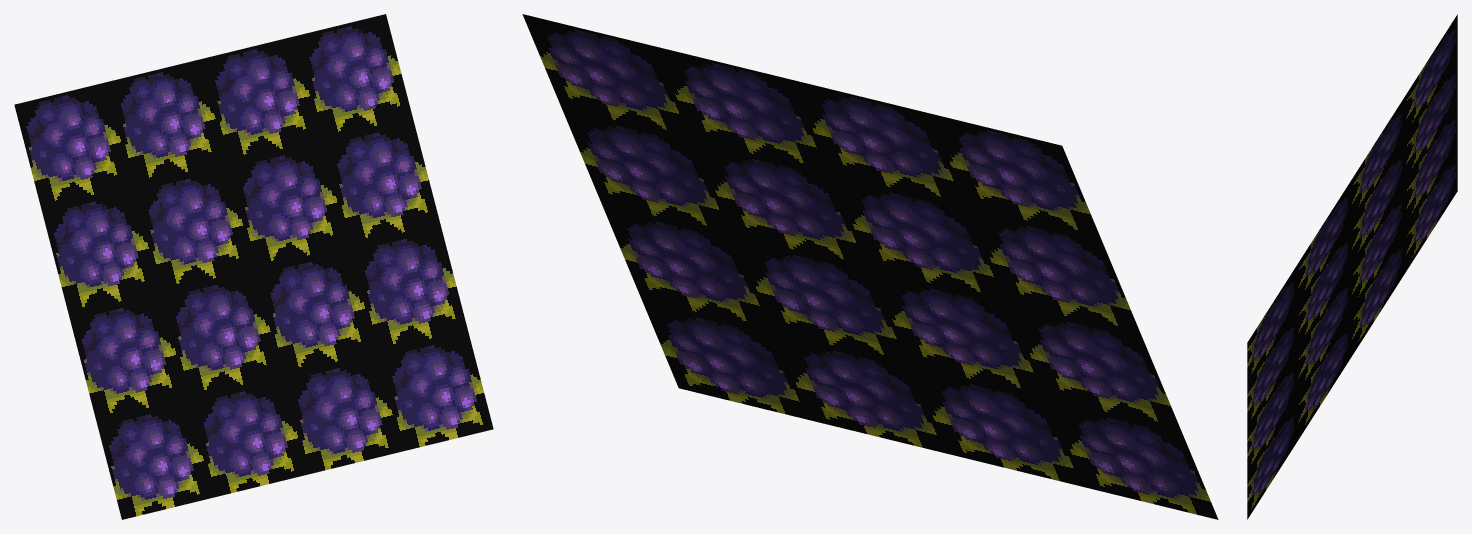
Rendered from 0600mi_bla.gltf.
3 views of the same model, side by side, from view 1: azimuth 30°, elevation 25°; view 2: azimuth 150°, elevation 25°; view 3: azimuth 270°, elevation 25° (orthographic). The views are drawn at different scales.
Visible parts, largest first — view 1: 0600mi_bla; view 2: 0600mi_bla; view 3: 0600mi_bla.
Boxes of the visible parts, x1,y1,x2,y2 form: 0600mi_bla: (14, 14, 493, 519); 0600mi_bla: (522, 14, 1218, 519); 0600mi_bla: (1247, 14, 1457, 519).
Bounding box in the file's own units: 0.4395 × 0.3801 × 0.2205.
1 material, 1 textured.
